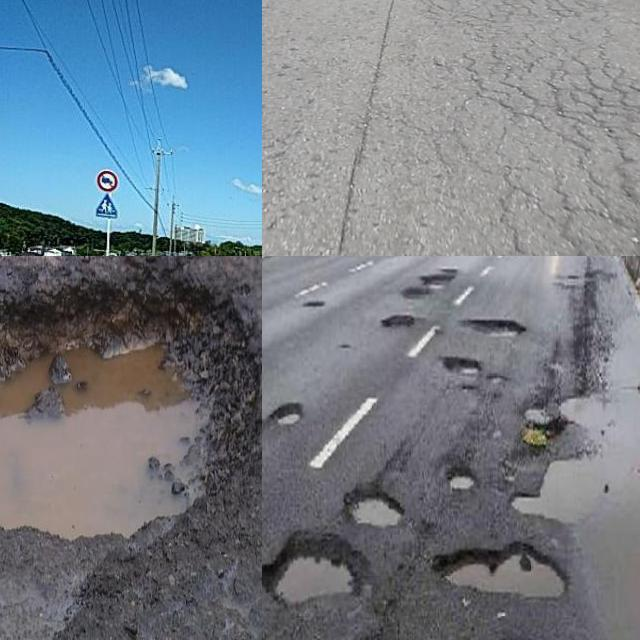Lubang: (0, 265, 262, 545), (432, 543, 562, 600), (266, 534, 358, 605), (343, 493, 406, 526), (469, 316, 533, 340), (439, 356, 492, 376), (450, 469, 481, 492), (276, 405, 305, 427), (377, 316, 412, 331)
Retak Buaya: (427, 0, 640, 256)
